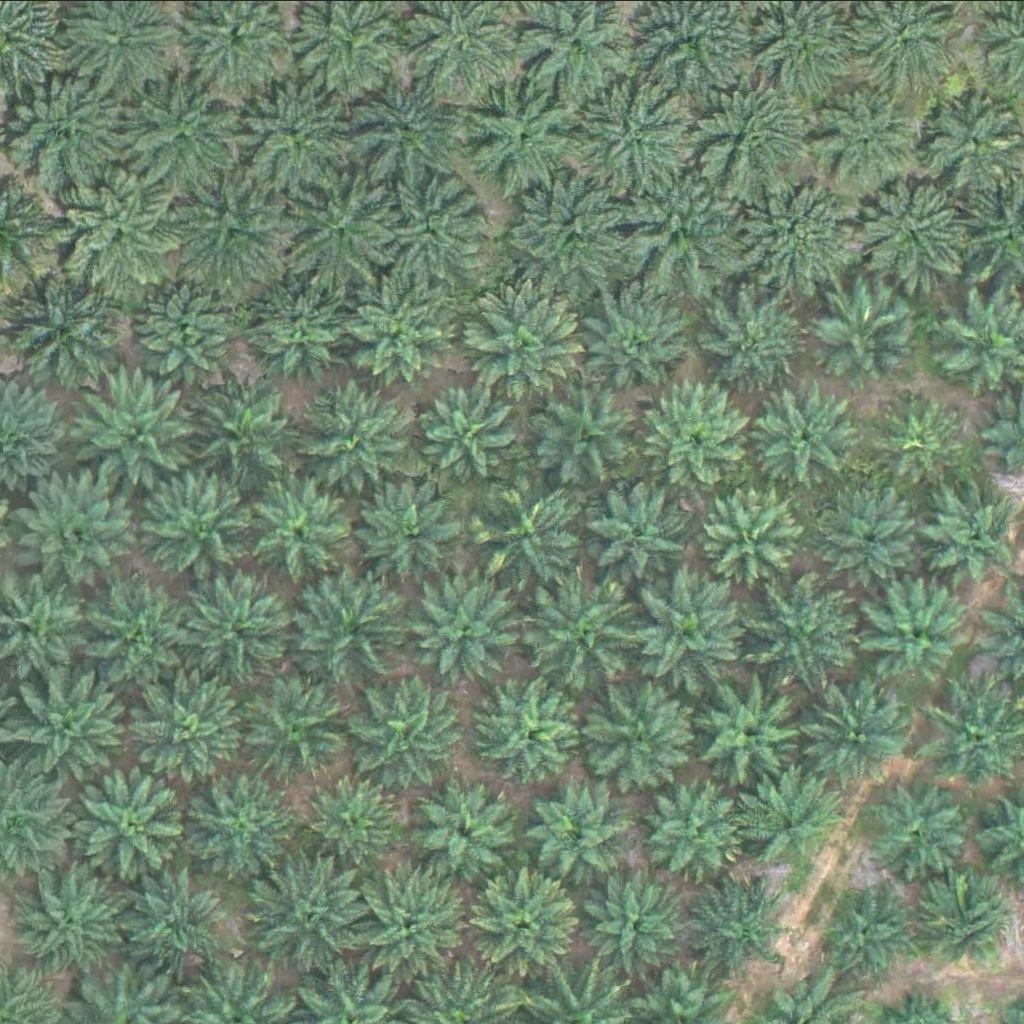Kelapa_Sawit: (1, 259, 127, 384), (71, 160, 197, 285), (248, 859, 374, 984), (630, 566, 756, 691), (454, 277, 580, 402), (571, 281, 697, 406), (512, 164, 638, 289), (623, 164, 749, 289), (342, 64, 468, 189), (732, 167, 858, 292), (697, 76, 823, 201), (79, 370, 204, 495), (273, 156, 398, 281), (575, 69, 700, 194), (849, 172, 974, 297), (20, 474, 134, 587), (87, 572, 201, 685), (14, 865, 128, 978), (118, 866, 232, 979), (185, 764, 299, 877), (350, 671, 464, 784), (131, 80, 245, 193), (472, 680, 585, 793), (585, 677, 698, 790), (141, 469, 254, 582), (301, 380, 414, 493), (751, 577, 864, 690), (234, 75, 347, 188), (472, 84, 585, 197), (12, 672, 126, 784), (80, 769, 194, 881), (241, 670, 355, 782), (404, 574, 518, 686), (527, 576, 641, 688), (478, 479, 592, 591), (645, 379, 759, 491), (360, 864, 473, 976), (461, 864, 574, 976), (126, 671, 239, 783), (181, 569, 294, 681), (301, 570, 414, 682), (344, 278, 457, 390), (380, 170, 493, 282), (586, 870, 687, 970), (412, 778, 513, 878), (535, 780, 636, 880), (247, 481, 348, 581), (354, 483, 455, 583), (199, 382, 300, 482), (422, 381, 523, 481), (129, 276, 230, 376), (254, 281, 355, 381), (180, 175, 281, 275), (826, 484, 927, 584), (920, 484, 1021, 584), (866, 583, 967, 683), (702, 679, 803, 779), (799, 686, 900, 786), (870, 778, 971, 878), (735, 769, 836, 869), (647, 782, 748, 882), (688, 878, 789, 978), (820, 878, 921, 978), (916, 874, 1017, 974), (815, 89, 916, 189), (306, 770, 406, 870), (583, 477, 683, 577), (537, 387, 637, 487), (709, 290, 809, 390), (817, 282, 917, 382), (759, 383, 859, 483), (704, 486, 804, 586), (879, 394, 967, 482)
